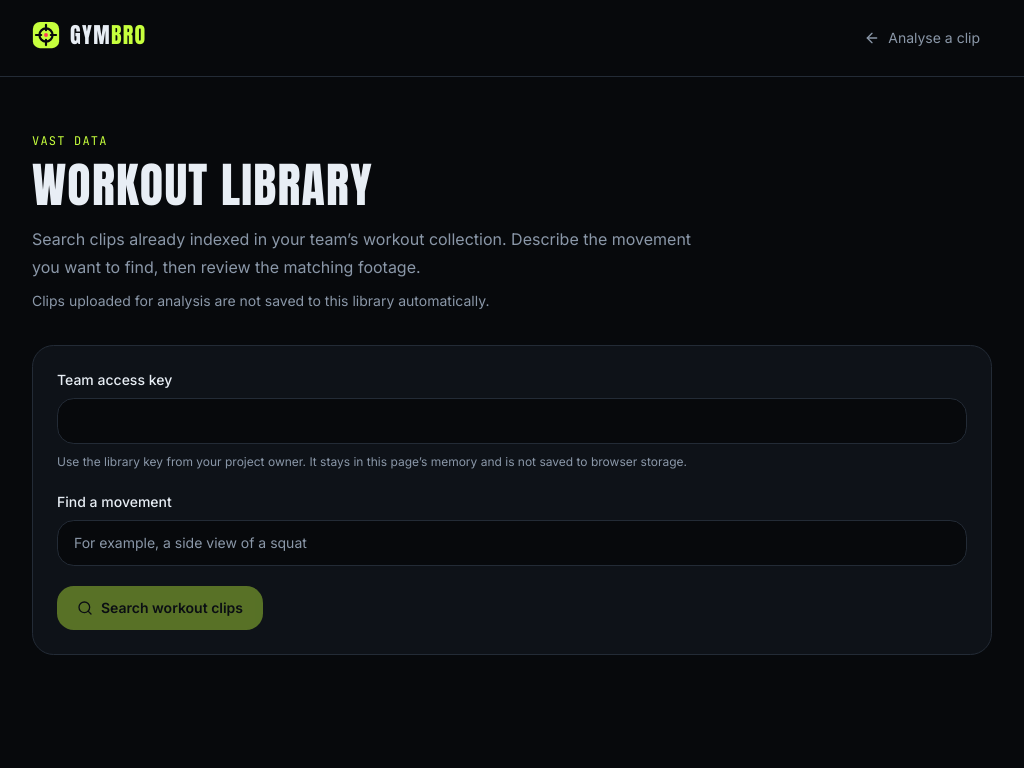
Test: indexed workout library › sends the team key only in a header and renders real empty results
The image size is (1024, 768).
Type "test-team-key-with-at-least-32-characters" into the password field labelled "Team access key". click: (512, 421)
box: [57, 398, 967, 444]
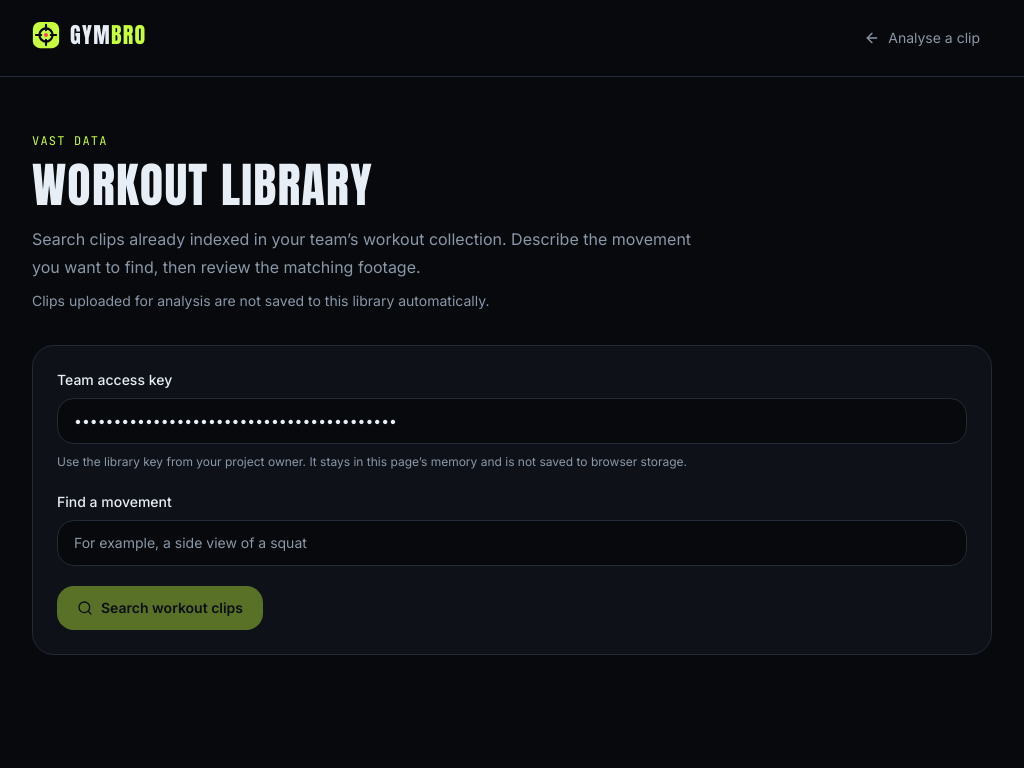
Type "side view of a squat" into the search field labelled "Find a movement". click: (512, 543)
box: [57, 520, 967, 566]
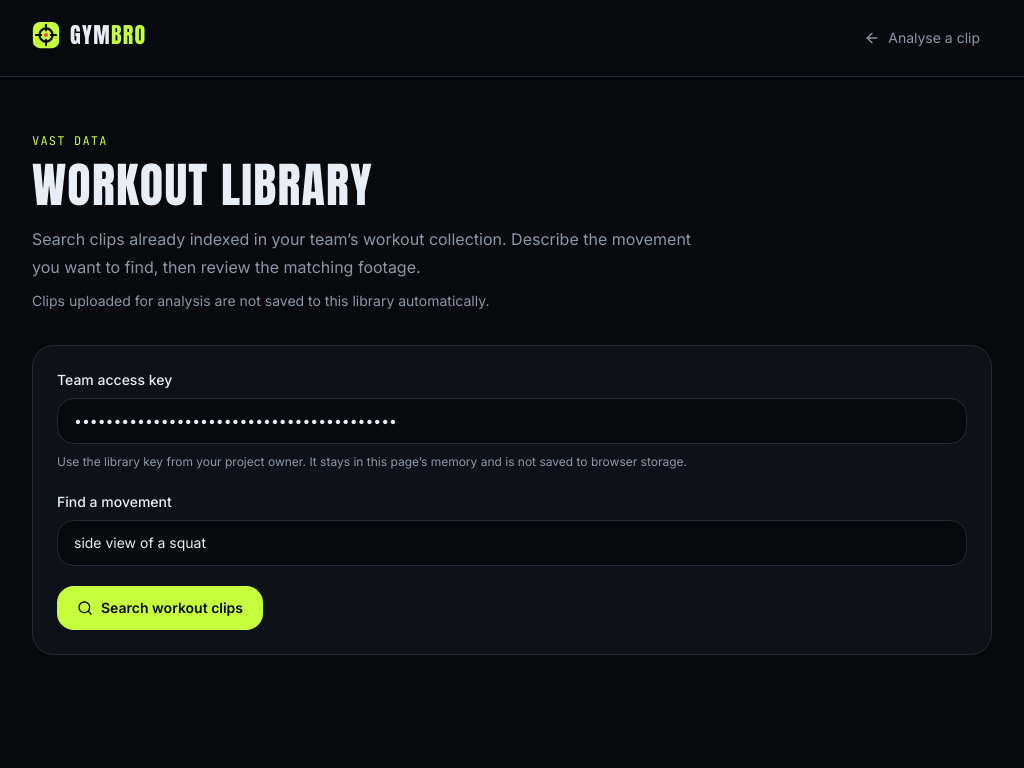
Click the button "Search workout clips". click: (160, 608)
box: [57, 586, 263, 630]
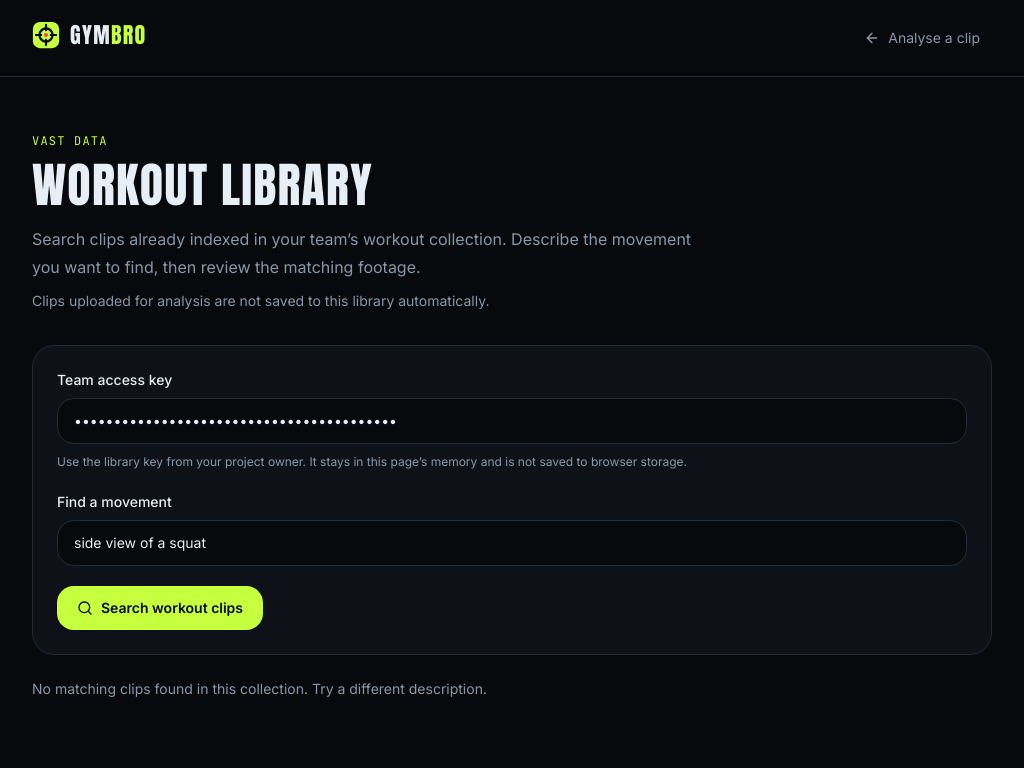
expect the text "No matching clips found" is shown: met, box [32, 680, 487, 697]
